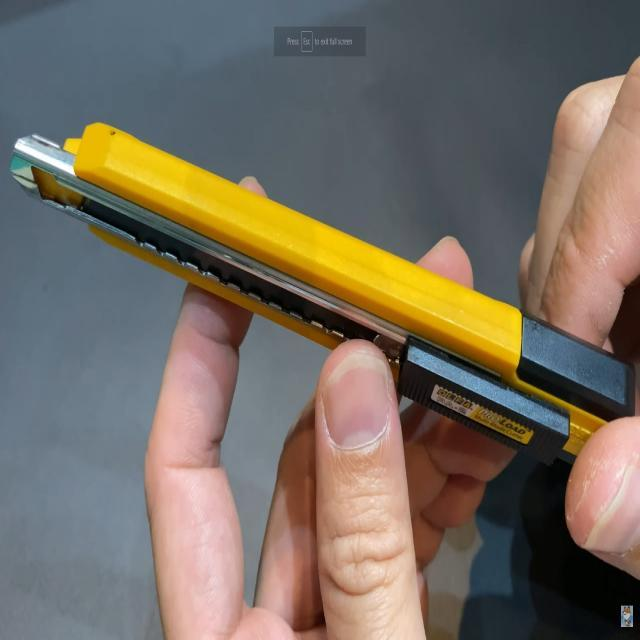cutter: (1, 92, 640, 556)
